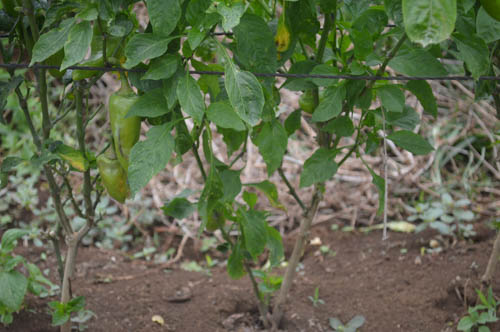ChiliPepper: (111, 97, 144, 159), (97, 158, 125, 201)
